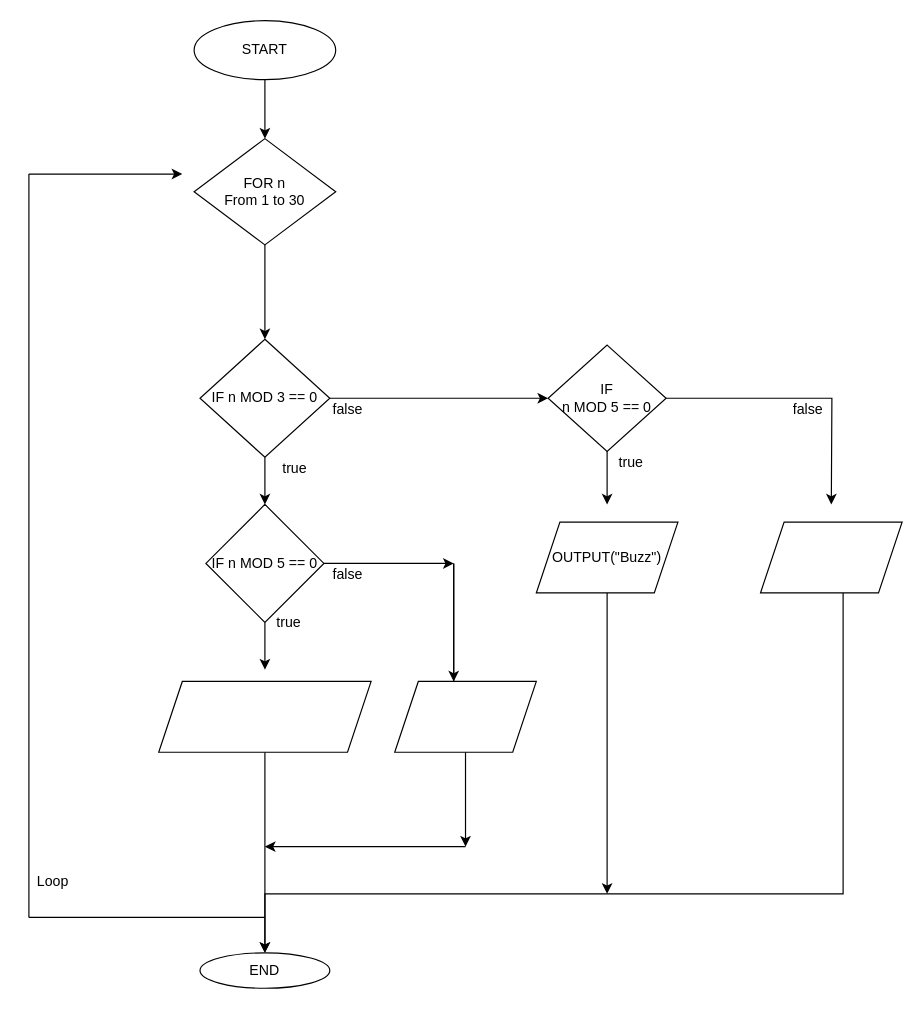
This 923x1009 diagram has some shape labels left out. Each missing label, with the centre of its shape:
OUTPUT("Fizz"): [465,716]
Output("FIZZBUZZ): [264,716]
OUTPUT(N): [830,557]
